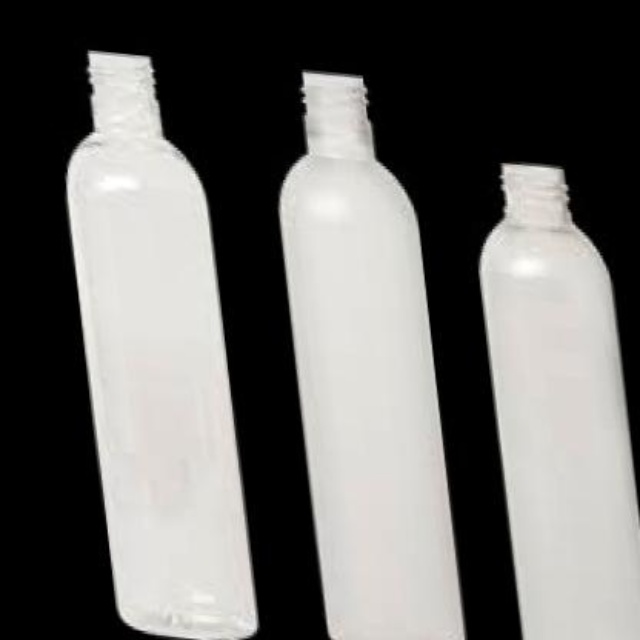trash: (68, 52, 255, 638), (280, 72, 463, 638), (480, 165, 638, 638)
